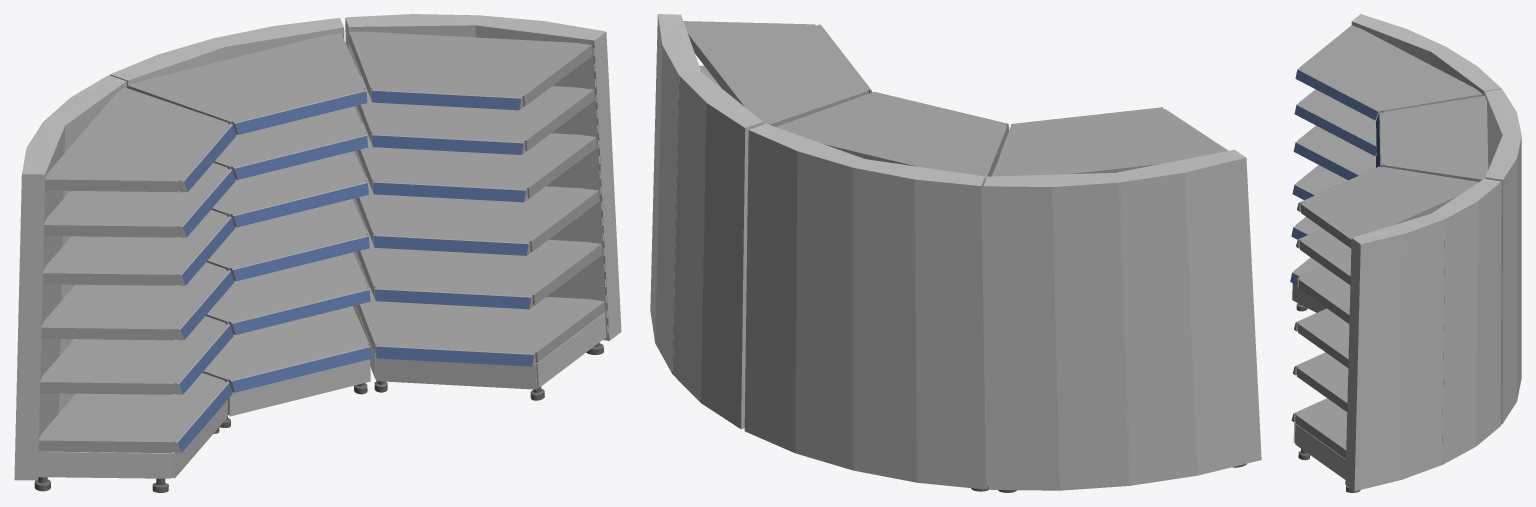
File: shelf3.fbx
The picture shows the model from 3 angles, left to right: view 1: azimuth 30°, elevation 25°; view 2: azimuth 150°, elevation 25°; view 3: azimuth 270°, elevation 25°; orthographic projection. The views are drawn at different scales.
Visible parts, largest first — view 1: group6, group7, group2, pCube16, pCube14, pCube17, pCube4, pCube15, pCube5; view 2: pCube14, pCube4, pCube16, group6, group2, group7; view 3: pCube16, group6, group7, group2, pCube4, pCube14, pCube17, pCube15.
Part boxes in pixels (left/top/right/bottom): group6: left=349, top=31, right=604, bottom=366; group7: left=38, top=87, right=236, bottom=453; group2: left=128, top=33, right=371, bottom=392; pCube16: left=345, top=14, right=621, bottom=340; pCube14: left=14, top=75, right=126, bottom=480; pCube17: left=353, top=305, right=606, bottom=389; pCube4: left=110, top=17, right=344, bottom=88; pCube15: left=38, top=400, right=227, bottom=478; pCube5: left=227, top=359, right=370, bottom=416; pCube14: left=983, top=149, right=1261, bottom=490; pCube4: left=744, top=123, right=988, bottom=489; pCube16: left=650, top=14, right=763, bottom=429; group6: left=683, top=21, right=872, bottom=126; group2: left=776, top=92, right=1008, bottom=180; group7: left=992, top=107, right=1228, bottom=176; pCube16: left=1345, top=178, right=1501, bottom=491; group6: left=1291, top=166, right=1478, bottom=458; group7: left=1290, top=25, right=1482, bottom=284; group2: left=1376, top=96, right=1488, bottom=181; pCube4: left=1484, top=89, right=1521, bottom=424; pCube14: left=1351, top=14, right=1501, bottom=95; pCube17: left=1293, top=422, right=1345, bottom=479; pCube15: left=1292, top=283, right=1326, bottom=312.
Size of the model in its own units: 2.11 by 1.06 by 0.8643.
